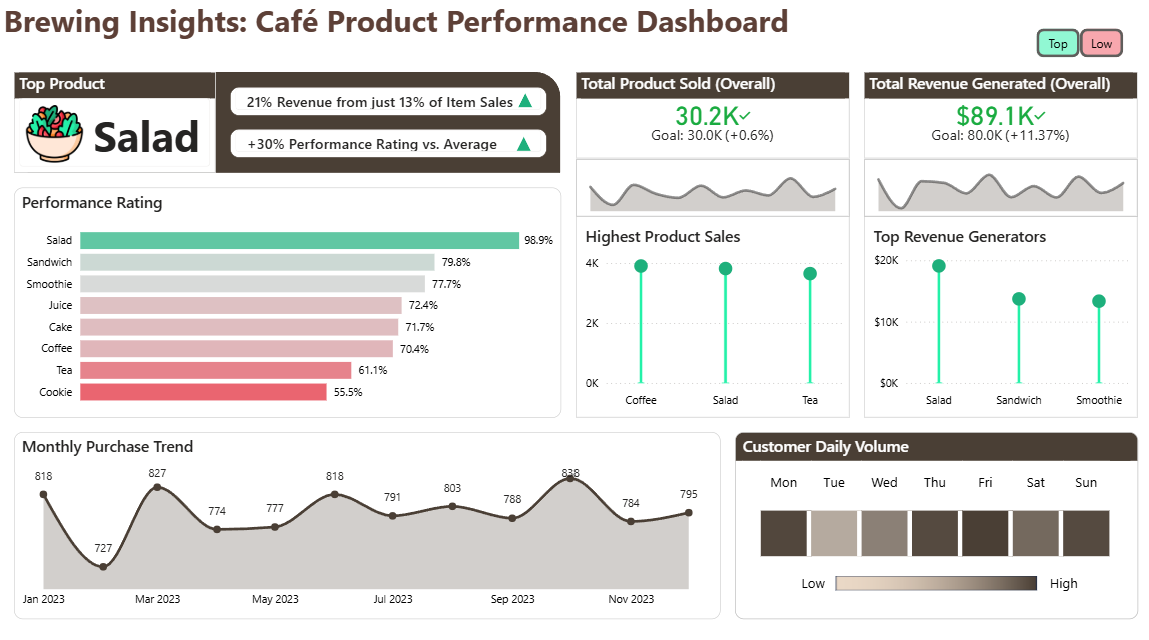

Layout of this report page (visuals, bound fields, positions):
{"tool":"powerbi","page":{"name":"Page 1","canvas":[1280,720],"ordinal":0},"visuals":[{"type":"shape","box":[32,80,592,112],"z":0},{"type":"lineChart","fields":{"Category":["cafe_sales_clean.transaction_date.Variation.Date Hierarchy.Year","cafe_sales_clean.transaction_date.Variation.Date Hierarchy.Quarter","cafe_sales_clean.transaction_date.Variation.Date Hierarchy.Month"],"Y":["Sum(cafe_sales_clean.quantity)"]},"box":[640,176,304,64],"z":1000},{"type":"lineChart","title":"Monthly Purchase Trend","fields":{"Y":["CountNonNull(cafe_sales_clean.transaction_id)"],"Category":["cafe_sales_clean.transaction_date.Variation.Date Hierarchy.Year","cafe_sales_clean.transaction_date.Variation.Date Hierarchy.Quarter","cafe_sales_clean.transaction_date.Variation.Date Hierarchy.Month"]},"box":[16,480,784,208],"z":2000},{"type":"kpi","title":"Total Product Sold (Overall)","fields":{"Goal":["cafe_sales_clean.Target Product Sales"],"TrendLine":["cafe_sales_clean.transaction_date"],"Indicator":["cafe_sales_clean.Total Products Sold"]},"box":[640,80,304,96],"z":3000},{"type":"clusteredBarChart","title":"Performance Rating","fields":{"Category":["cafe_sales_clean.item"],"Y":["cafe_sales_clean.Performance Rating"]},"box":[16,208,608,256],"z":4000},{"type":"textbox","title":"Brewing Insights: Café Product Performance Dashboard","box":[0,0,1040,48],"z":5000},{"type":"lineChart","title":"Highest Product Sales","fields":{"Y":["Sum(cafe_sales_clean.quantity)"],"Category":["cafe_sales_clean.item"]},"box":[640,240,304,224],"z":6000},{"type":"lineChart","title":"Top Revenue Generators","fields":{"Y":["Sum(cafe_sales_clean.total_spent)"],"Category":["cafe_sales_clean.item"]},"box":[960,240,304,224],"z":7000},{"type":"cardVisual","title":"Top Product","fields":{"Data":["cafe_sales_clean.Top Item"]},"box":[16,80,224,112],"z":8000},{"type":"pivotTable","title":"Customer Daily Volume","fields":{"Columns":["cafe_sales_clean.DayName"],"Values":["cafe_sales_clean.Customer Volume"]},"box":[816,480,448,208],"z":9000},{"type":"image","box":[21,116,80,64],"z":10000},{"type":"cardVisual","fields":{"Data":["cafe_sales_clean.KPI RevenueQty Line"]},"box":[256,96,352,32],"z":11000},{"type":"shape","box":[576,104,16,16],"z":12000},{"type":"image","box":[928,640,224,16],"z":13000},{"type":"textbox","box":[882,632,336,48],"z":14000},{"type":"actionButton","title":"Top Performer","box":[1152,32,48,32],"z":17000},{"type":"actionButton","title":"Low Performer","box":[1200,32,48,32],"z":18000},{"type":"lineChart","fields":{"Category":["cafe_sales_clean.transaction_date.Variation.Date Hierarchy.Year","cafe_sales_clean.transaction_date.Variation.Date Hierarchy.Quarter","cafe_sales_clean.transaction_date.Variation.Date Hierarchy.Month"],"Y":["Sum(cafe_sales_clean.total_spent)"]},"box":[960,176,304,64],"z":19000},{"type":"cardVisual","fields":{"Data":["cafe_sales_clean.KPI Performance Line"]},"box":[256,144,352,32],"z":20000},{"type":"shape","box":[575,151,16,16],"z":21000},{"type":"kpi","title":"Total Revenue Generated (Overall)","fields":{"TrendLine":["cafe_sales_clean.transaction_date"],"Indicator":["cafe_sales_clean.Total Revenue Generated"],"Goal":["cafe_sales_clean.Target Revenue"]},"box":[960,80,304,96],"z":22000}]}

Visuals, with their boxes in screenshot pixels (x1, y1, x2, y2), scaled from the page's 1280x720 canvas onto the 1149x640 screenshot:
shape: <region>29, 71, 560, 171</region>
lineChart - cafe_sales_clean.transaction_date.Variation.Date Hierarchy.Year x cafe_sales_clean.transaction_date.Variation.Date Hierarchy.Quarter: <region>574, 156, 847, 213</region>
"Monthly Purchase Trend" lineChart: <region>14, 427, 718, 612</region>
"Total Product Sold (Overall)" kpi: <region>574, 71, 847, 156</region>
"Performance Rating" clusteredBarChart: <region>14, 185, 560, 412</region>
"Brewing Insights: Café Product Performance Dashboard" textbox: <region>0, 0, 934, 43</region>
"Highest Product Sales" lineChart: <region>574, 213, 847, 412</region>
"Top Revenue Generators" lineChart: <region>862, 213, 1135, 412</region>
"Top Product" cardVisual: <region>14, 71, 215, 171</region>
"Customer Daily Volume" pivotTable: <region>732, 427, 1135, 612</region>
image: <region>19, 103, 91, 160</region>
cardVisual - cafe_sales_clean.KPI RevenueQty Line: <region>230, 85, 546, 114</region>
shape: <region>517, 92, 531, 107</region>
image: <region>833, 569, 1034, 583</region>
textbox: <region>792, 562, 1093, 604</region>
"Top Performer" actionButton: <region>1034, 28, 1077, 57</region>
"Low Performer" actionButton: <region>1077, 28, 1120, 57</region>
lineChart - cafe_sales_clean.transaction_date.Variation.Date Hierarchy.Year x cafe_sales_clean.transaction_date.Variation.Date Hierarchy.Quarter: <region>862, 156, 1135, 213</region>
cardVisual - cafe_sales_clean.KPI Performance Line: <region>230, 128, 546, 156</region>
shape: <region>516, 134, 531, 148</region>
"Total Revenue Generated (Overall)" kpi: <region>862, 71, 1135, 156</region>
